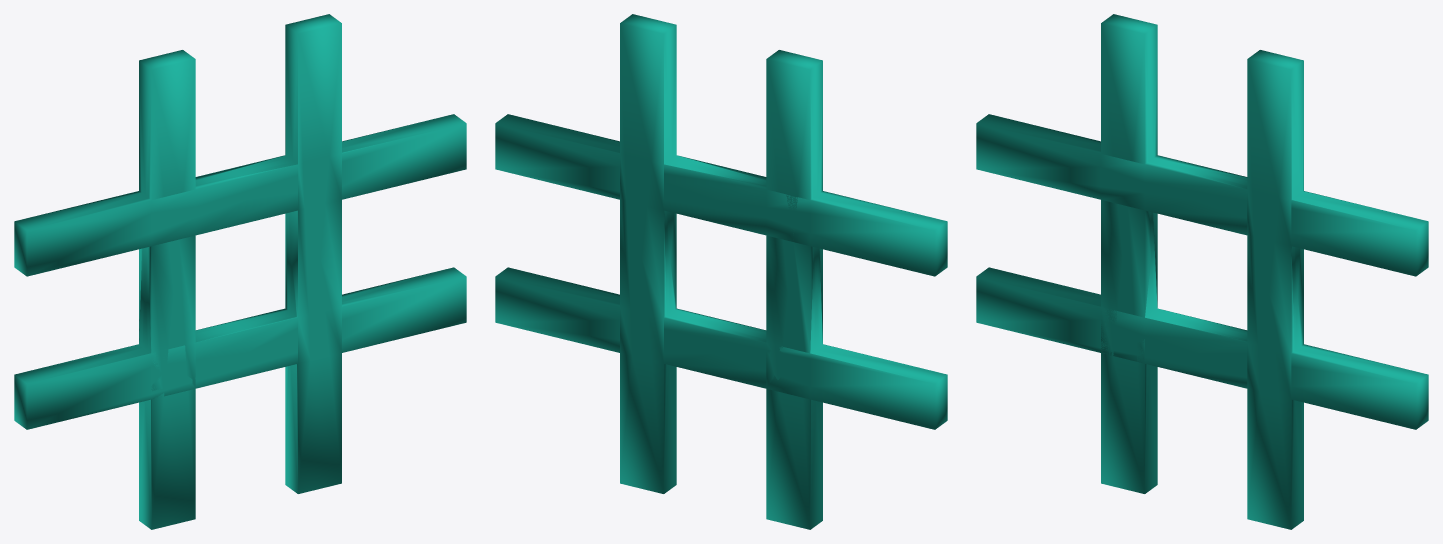
File: board.obj
3 renders of one model, left to right at view 1: azimuth 30°, elevation 25°; view 2: azimuth 150°, elevation 25°; view 3: azimuth 330°, elevation 25°, orthographic.
Visible parts, largest first — view 1: board; view 2: board; view 3: board.
Boxes of the visible parts, bbox=[...] form: board: bbox=[14, 14, 466, 529]; board: bbox=[495, 14, 947, 529]; board: bbox=[976, 14, 1428, 529].
Size of the model in its own units: 20 by 20 by 1.
